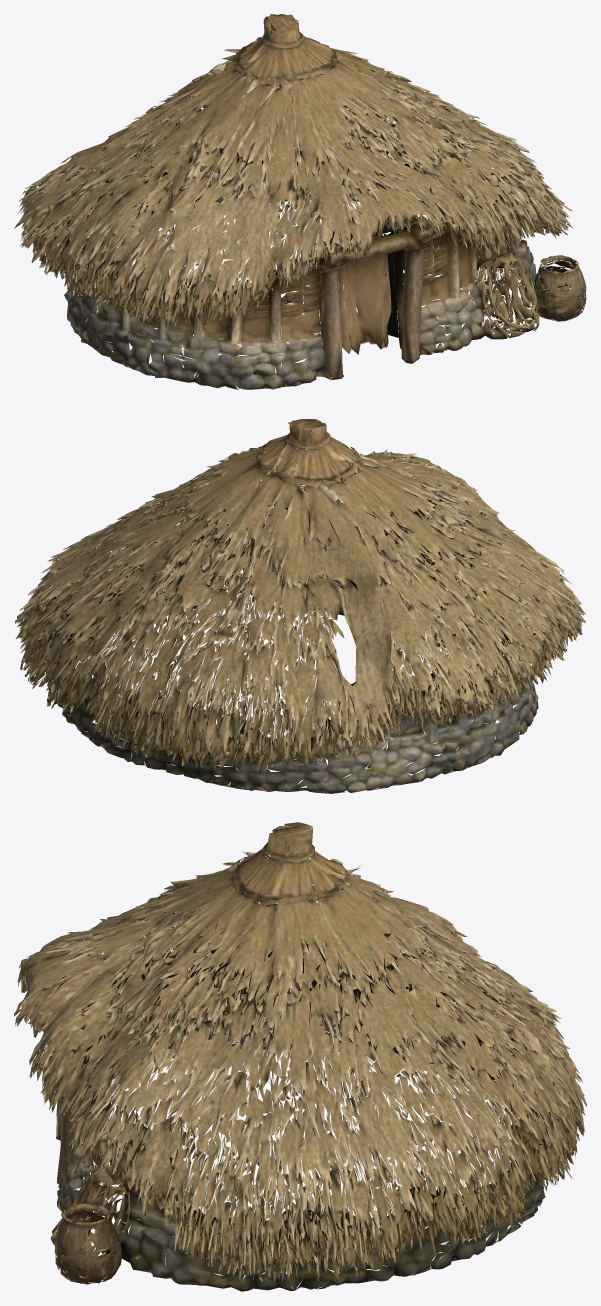
File: fisher_mid.glb
3 renders of one model, top to bottom at view 1: azimuth 30°, elevation 25°; view 2: azimuth 150°, elevation 25°; view 3: azimuth 270°, elevation 25°, orthographic. The views are drawn at different scales.
Visible parts, largest first — view 1: model; view 2: model; view 3: model.
Boxes of the visible parts, <box> form: model: <box>14,14,586,389</box>; model: <box>15,419,585,793</box>; model: <box>14,822,586,1291</box>.
Size of the model in its own units: 0.996 by 0.5369 by 0.8329.
Materials: 1 (1 with a texture image).
